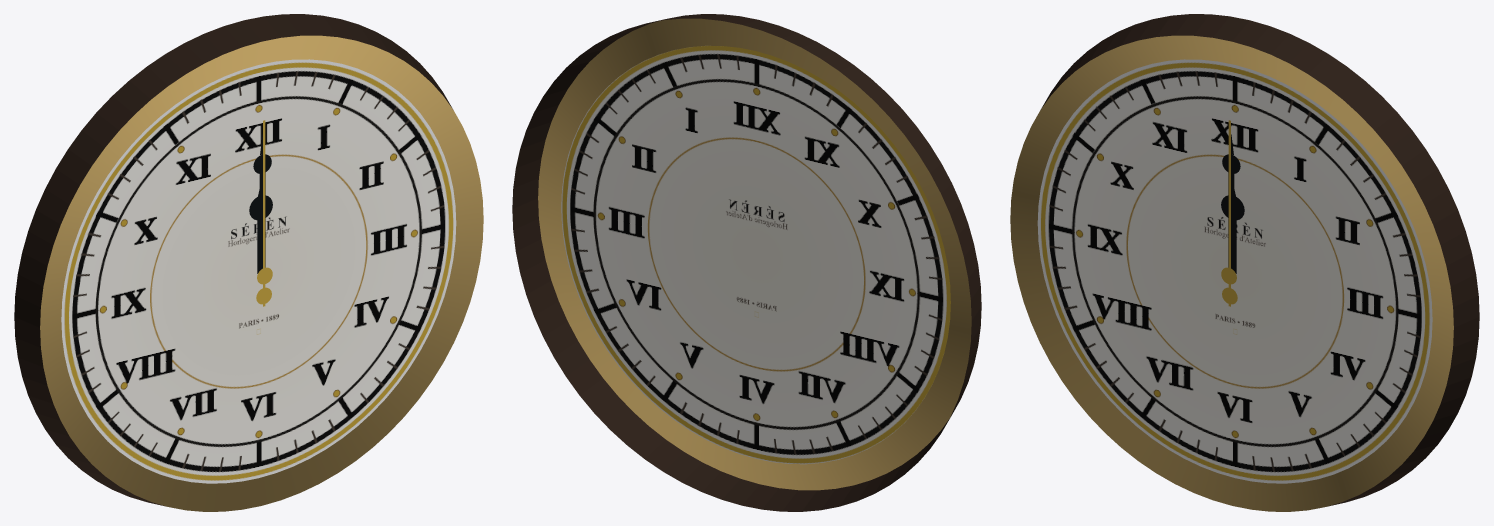
The model's file is clock_perfect.obj.
3 renders of one model, left to right at view 1: azimuth 30°, elevation 25°; view 2: azimuth 150°, elevation 25°; view 3: azimuth 330°, elevation 25°, orthographic.
Visible parts, largest first — view 1: clock_main, minute_hand, second_hand; view 2: clock_main; view 3: clock_main, minute_hand, second_hand.
Part boxes in pixels (x1=…): clock_main: x1=14, y1=14, x2=483, y2=511; minute_hand: x1=253, y1=134, x2=271, y2=270; second_hand: x1=256, y1=120, x2=271, y2=306; clock_main: x1=512, y1=14, x2=981, y2=511; clock_main: x1=1010, y1=14, x2=1479, y2=511; minute_hand: x1=1222, y1=134, x2=1240, y2=270; second_hand: x1=1222, y1=120, x2=1237, y2=306.
Size of the model in its own units: 0.698 by 0.698 by 0.057.
5 materials, 1 textured.
